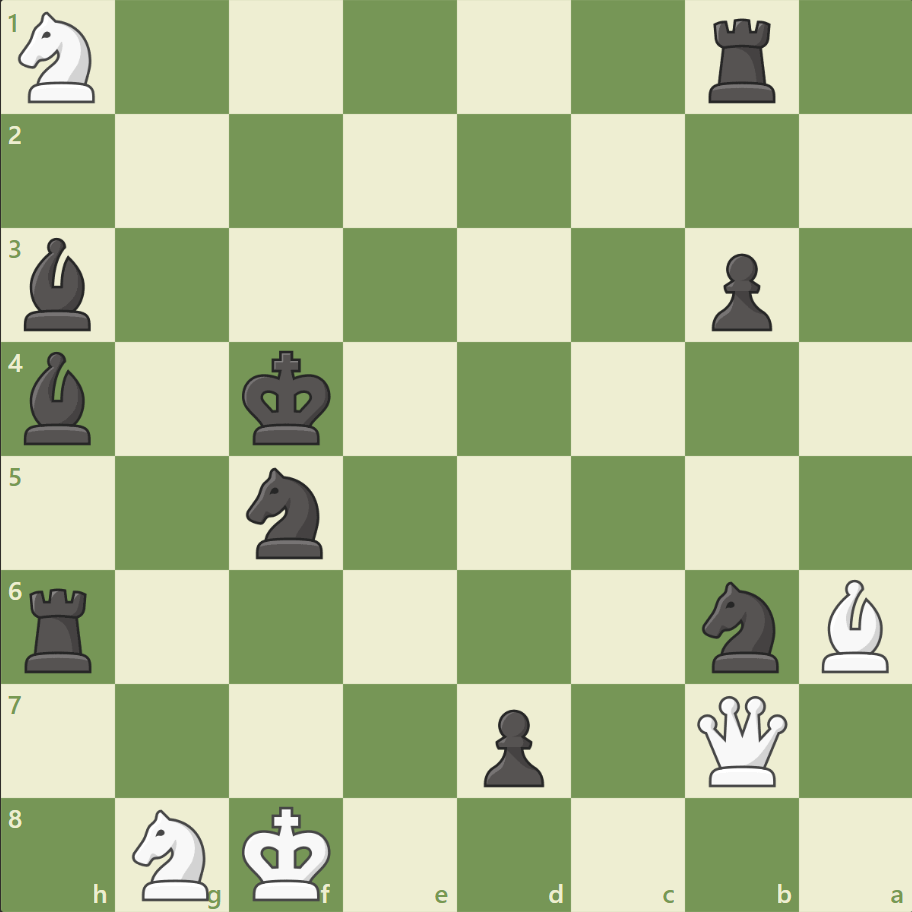B: (812, 574, 896, 676)
K: (238, 798, 338, 906)
N: (124, 802, 222, 904), (11, 7, 108, 110)
Q: (691, 690, 790, 789)
b: (17, 233, 101, 336), (17, 347, 101, 449)
k: (238, 344, 338, 452)
n: (238, 461, 335, 564), (692, 575, 789, 677)
p: (474, 700, 549, 791), (701, 246, 776, 337)
r: (19, 579, 102, 676), (700, 12, 783, 109)
